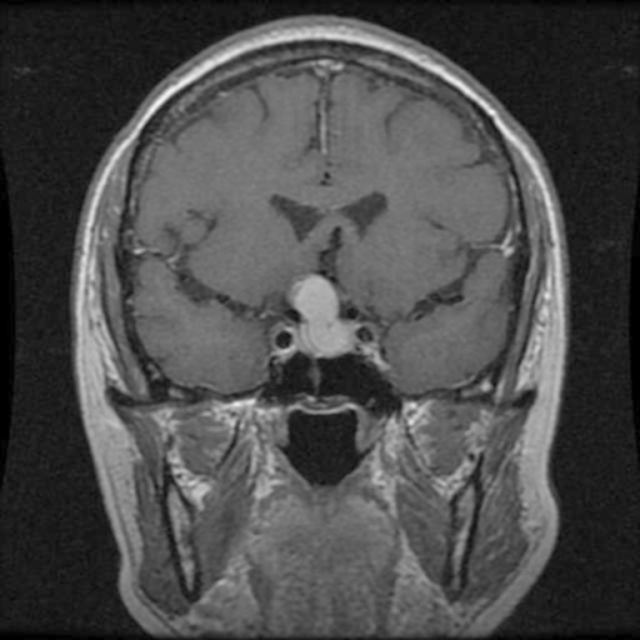no tumor: (289, 258, 359, 368)
